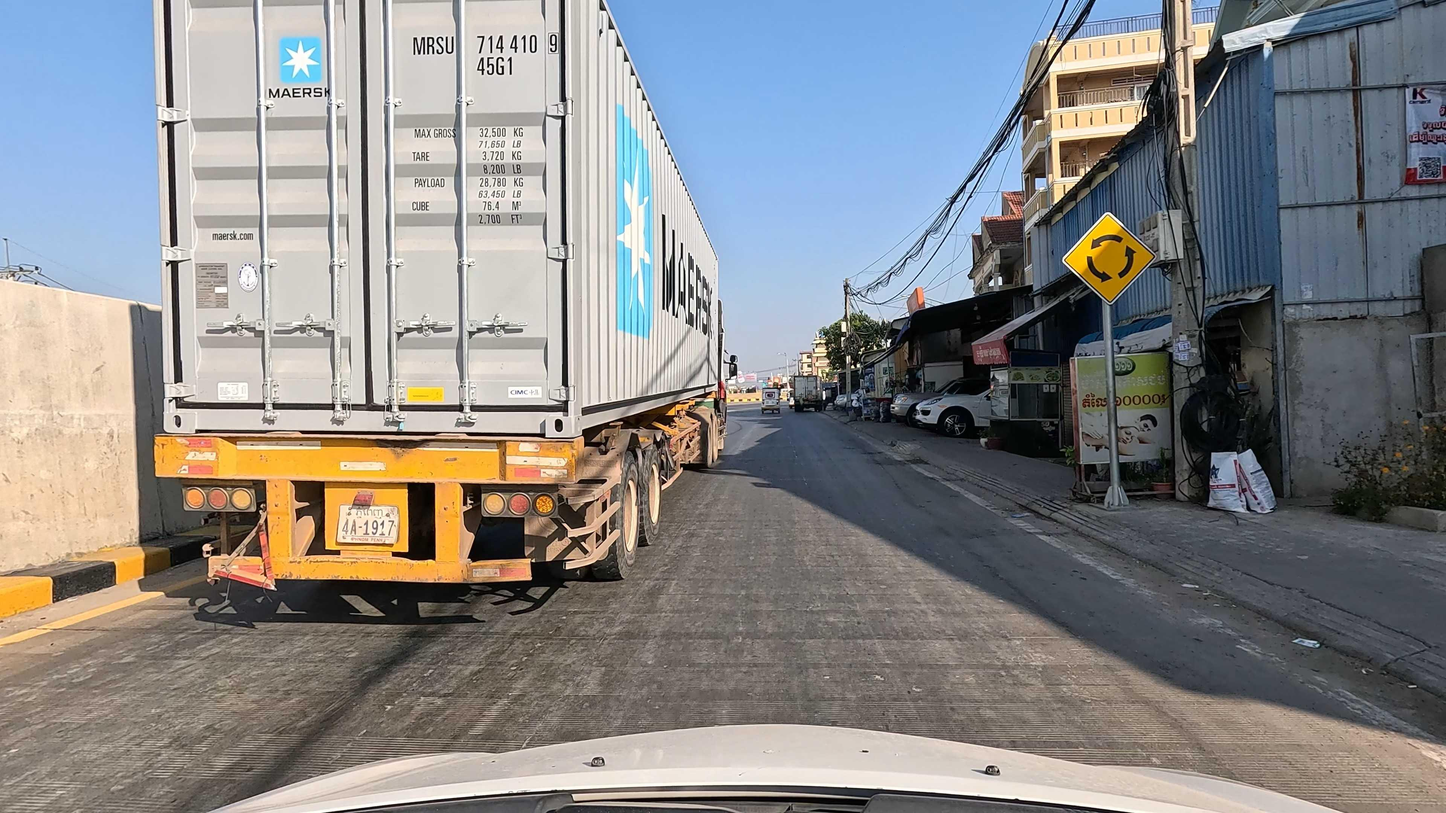roundabout_ahead: (1062, 212, 1156, 307)
